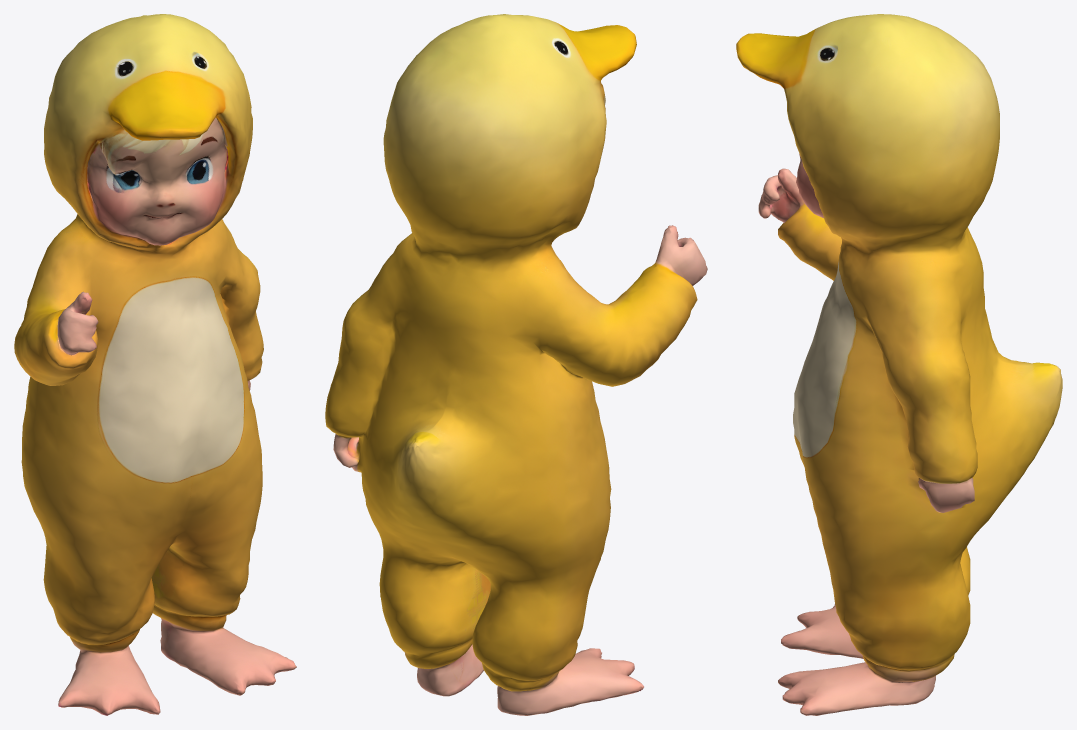
The model's file is pip_v2.glb.
The picture shows the model from 3 angles, left to right: view 1: azimuth 30°, elevation 25°; view 2: azimuth 150°, elevation 25°; view 3: azimuth 270°, elevation 25°; orthographic projection. The views are drawn at different scales.
Size of the model in its own units: 0.8728 by 1.91 by 0.8571.
1 material, 1 textured.
